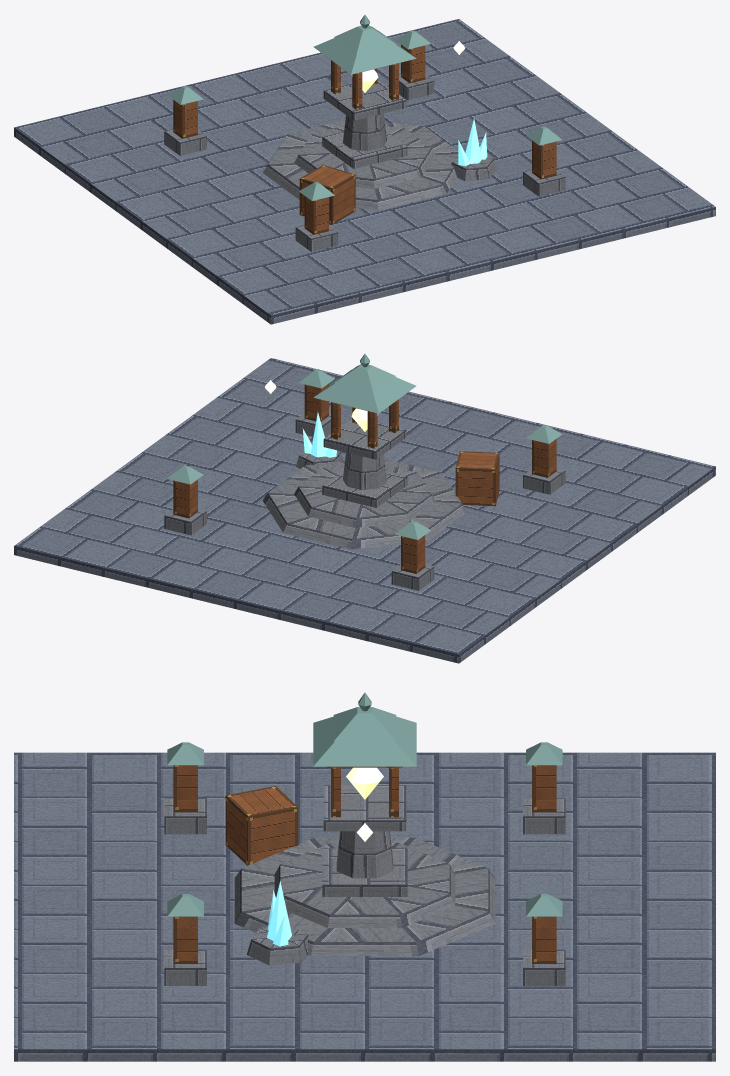
The model's file is lantern_shrine.glb.
The picture shows the model from 3 angles, top to bottom: view 1: azimuth 30°, elevation 25°; view 2: azimuth 150°, elevation 25°; view 3: azimuth 270°, elevation 25°; orthographic projection. The views are drawn at different scales.
Visible parts, largest first — view 1: CourtyardFloor, CenterDais, ShrinePedestal, ShrineRoof, CornerPostSW, CornerPostSE, CornerPostNW, OfferingCrate, CornerPostNE, CrystalCluster, ShrineHousing; view 2: CourtyardFloor, CenterDais, ShrinePedestal, ShrineRoof, OfferingCrate, CornerPostNW, CornerPostNE, CornerPostSW, CornerPostSE, CrystalCluster, ShrineHousing; view 3: CourtyardFloor, CenterDais, ShrinePedestal, ShrineRoof, OfferingCrate, CornerPostNW, CornerPostSW, CornerPostNE, CornerPostSE, CrystalCluster, ShrineHousing, ShrineCore.
Part boxes in pixels (x1,y1,x2,y2): CourtyardFloor: [14, 19, 715, 324]; CenterDais: [262, 120, 458, 210]; ShrinePedestal: [322, 79, 407, 168]; ShrineRoof: [313, 15, 416, 74]; CornerPostSW: [295, 182, 338, 251]; CornerPostSE: [523, 126, 565, 196]; CornerPostNW: [164, 86, 206, 155]; OfferingCrate: [299, 165, 355, 224]; CornerPostNE: [395, 30, 434, 100]; CrystalCluster: [451, 118, 496, 181]; ShrineHousing: [331, 60, 402, 109]; CourtyardFloor: [14, 358, 715, 663]; CenterDais: [262, 459, 467, 549]; ShrinePedestal: [322, 418, 407, 507]; ShrineRoof: [313, 354, 416, 413]; OfferingCrate: [455, 451, 499, 506]; CornerPostNW: [391, 521, 434, 590]; CornerPostNE: [164, 465, 206, 535]; CornerPostSW: [523, 425, 565, 494]; CornerPostSE: [295, 369, 334, 437]; CrystalCluster: [296, 412, 343, 468]; ShrineHousing: [327, 399, 398, 448]; CourtyardFloor: [14, 752, 715, 1061]; CenterDais: [234, 837, 495, 955]; ShrinePedestal: [322, 785, 407, 896]; ShrineRoof: [313, 692, 416, 766]; OfferingCrate: [225, 786, 298, 865]; CornerPostNW: [523, 742, 565, 834]; CornerPostSW: [164, 742, 206, 834]; CornerPostNE: [523, 894, 565, 985]; CornerPostSE: [164, 894, 206, 985]; CrystalCluster: [246, 881, 308, 965]; ShrineHousing: [327, 766, 402, 817]; ShrineCore: [346, 767, 383, 799].
Size of the model in its own units: 9.2 by 3.2 by 9.2.
Materials: 7 (3 with a texture image).
